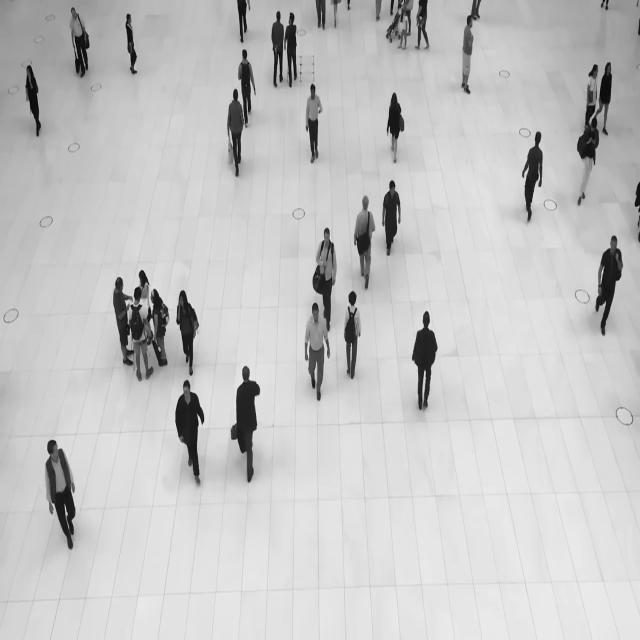Persona: (41, 434, 84, 567), (229, 356, 264, 498), (171, 378, 208, 494), (592, 229, 626, 343), (409, 305, 441, 420), (303, 294, 332, 410), (574, 119, 604, 214), (520, 126, 547, 225), (354, 191, 378, 298), (174, 287, 202, 378), (129, 281, 152, 391), (312, 223, 339, 311), (66, 3, 94, 83), (342, 288, 364, 389), (224, 84, 246, 185), (110, 273, 132, 373), (302, 80, 325, 168), (236, 44, 259, 130), (22, 62, 46, 142), (384, 89, 408, 169), (150, 286, 171, 373), (381, 174, 402, 261), (457, 12, 475, 99), (269, 4, 286, 89), (122, 9, 141, 81), (284, 8, 300, 90), (582, 55, 599, 128), (600, 53, 614, 141), (398, 12, 410, 55)
